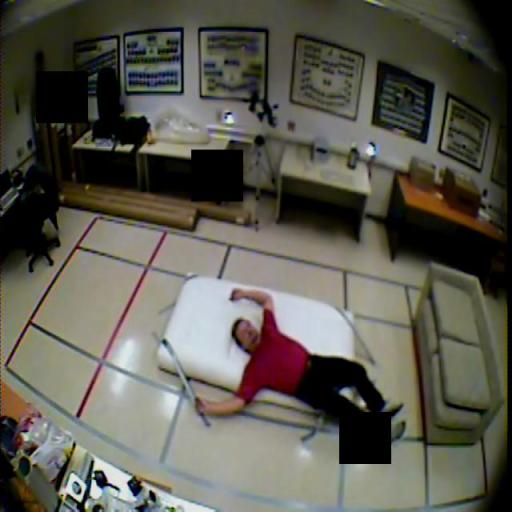Fall: (194, 287, 407, 447)
